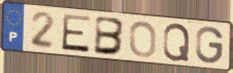2: (29, 10, 56, 52)
B: (92, 15, 127, 57)
E: (60, 13, 93, 55)
G: (194, 26, 226, 66)
O: (128, 20, 158, 59)
Q: (162, 22, 192, 63)
